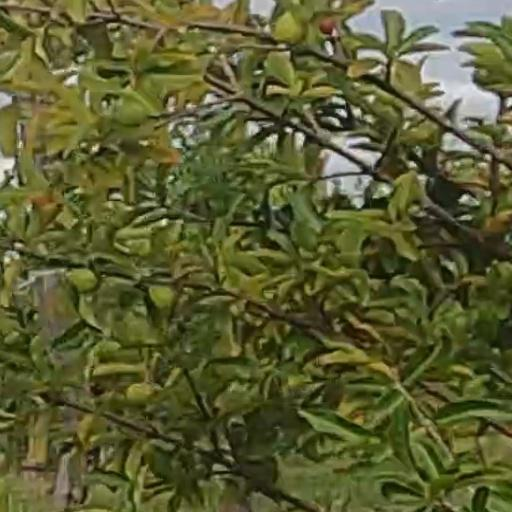acerola: (274, 11, 305, 43), (320, 17, 331, 34)
